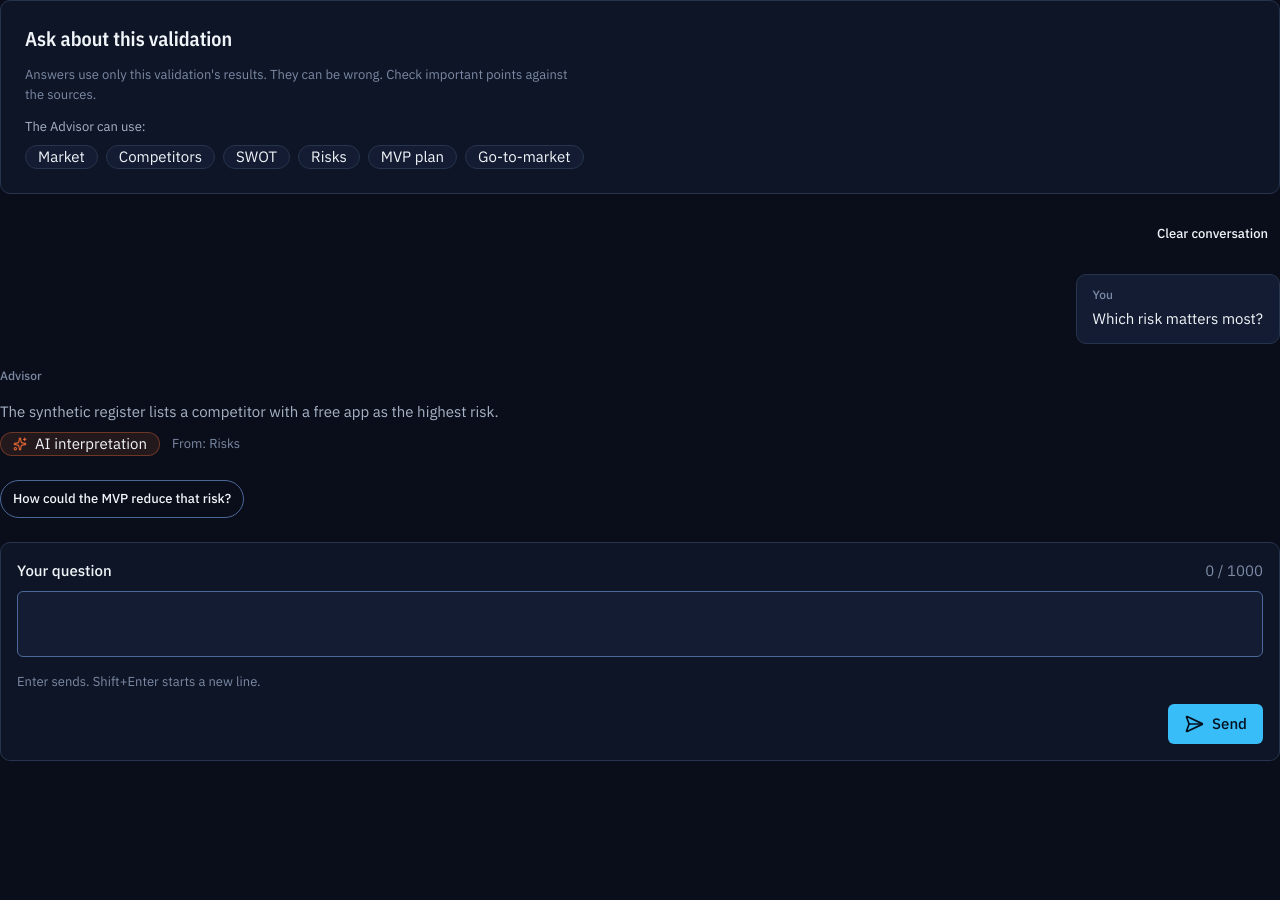
Test: Advisor: limits and clearing › asks before clearing, with Keep it focused, and clears only on confirmation
Click the button "Clear conversation": (1212, 234) [1145, 218, 1279, 250]
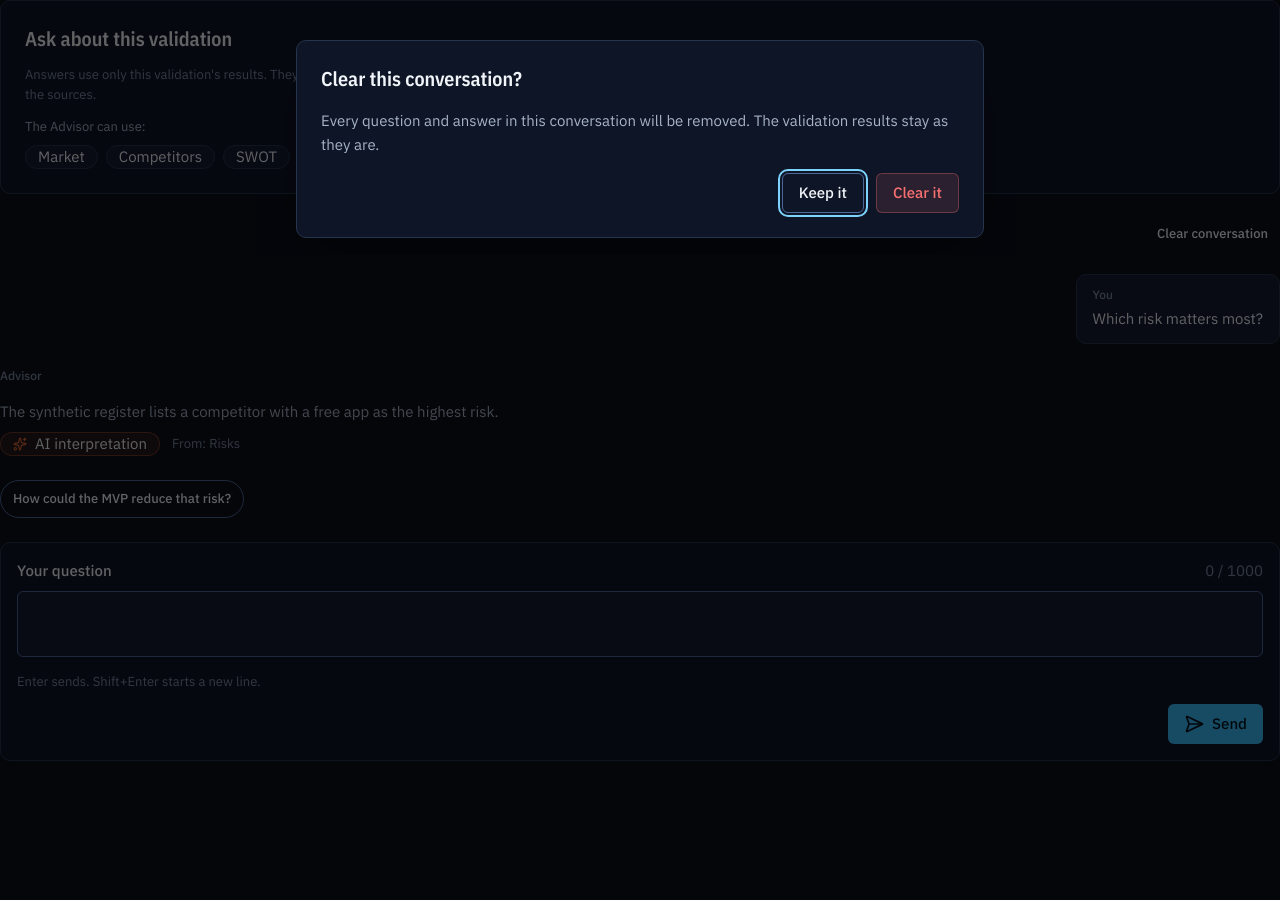
Expected: the heading "Clear this conversation?" is shown, [321, 65, 522, 92]
Click the button "Keep it": (823, 193) [782, 173, 864, 213]
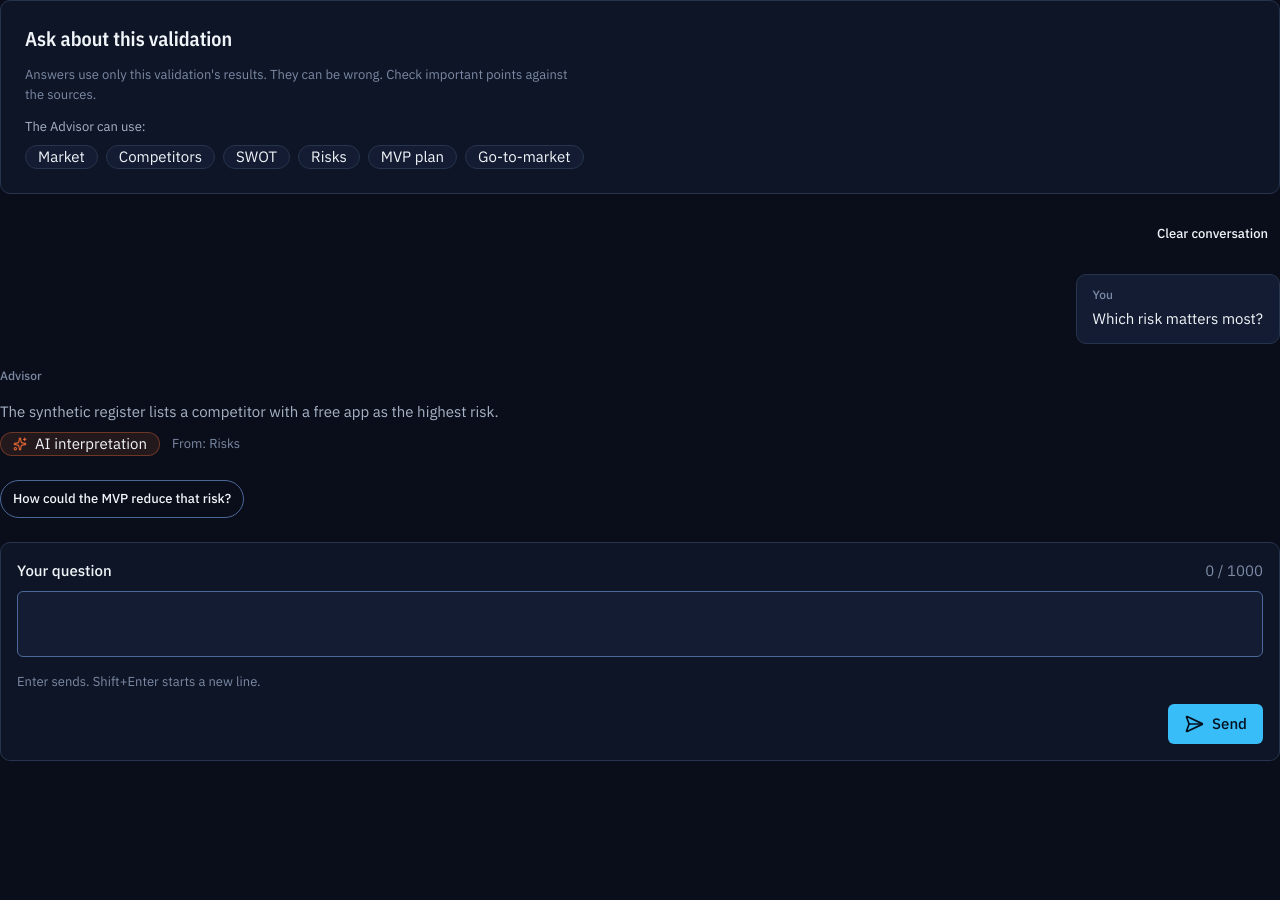
Expected: the heading "Clear this conversation?" is gone
Click the button "Clear conversation": (1212, 234) [1145, 218, 1279, 250]
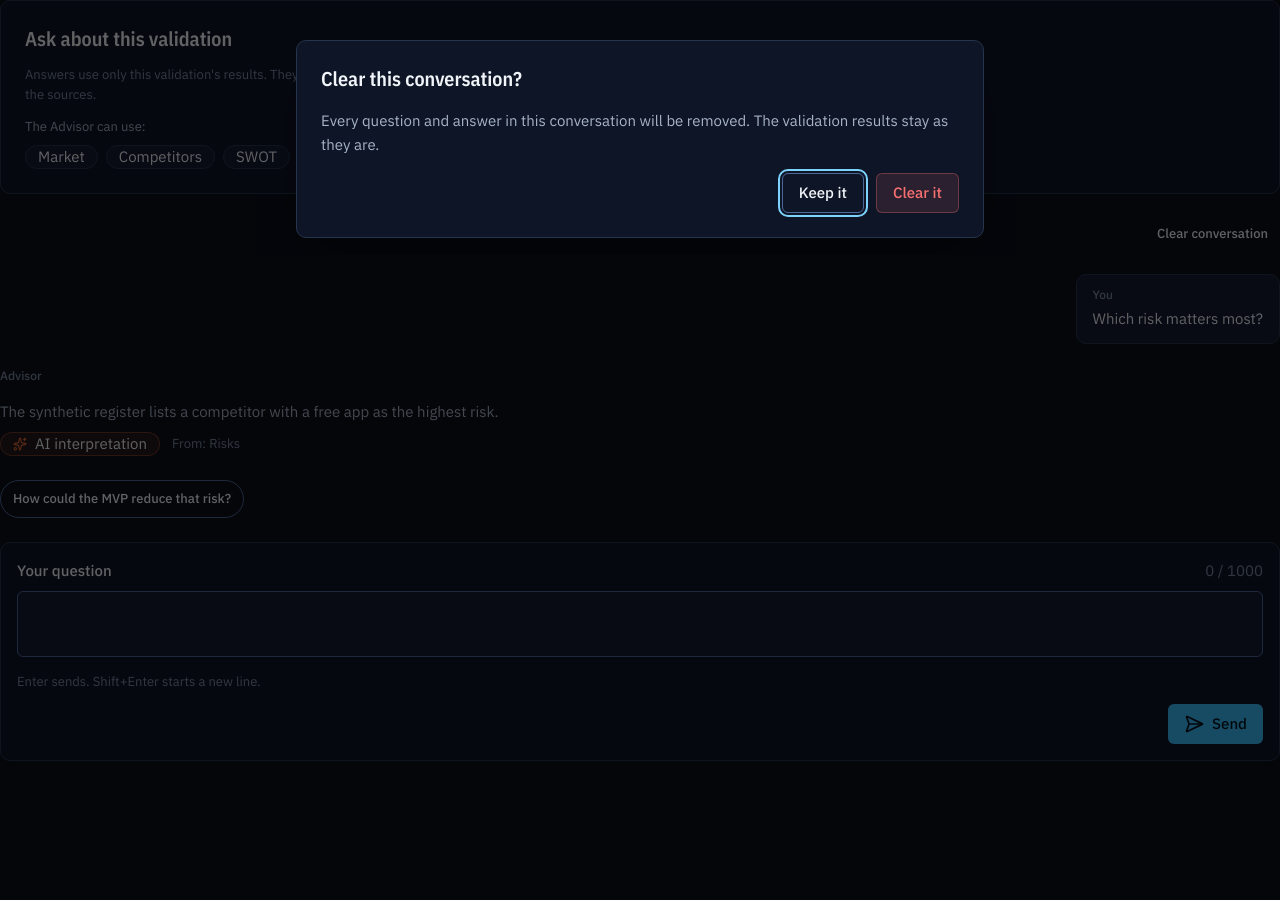
Click the button "Clear it": (917, 193) [876, 173, 959, 213]
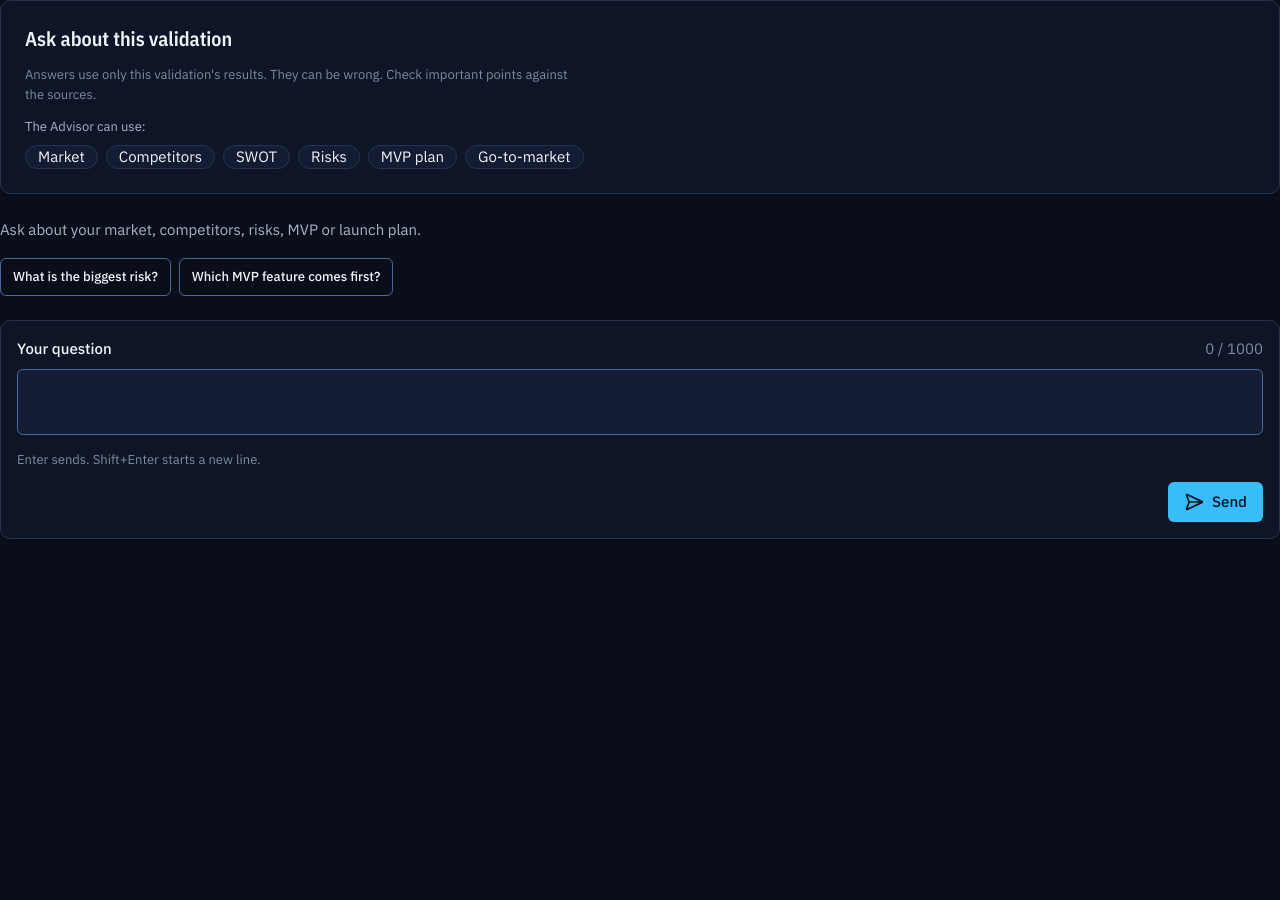
Expected: the text "Ask about your market, competitors, risks, MVP or launch plan." is shown, [0, 220, 421, 239]
Expected: the button "conversation" is gone
